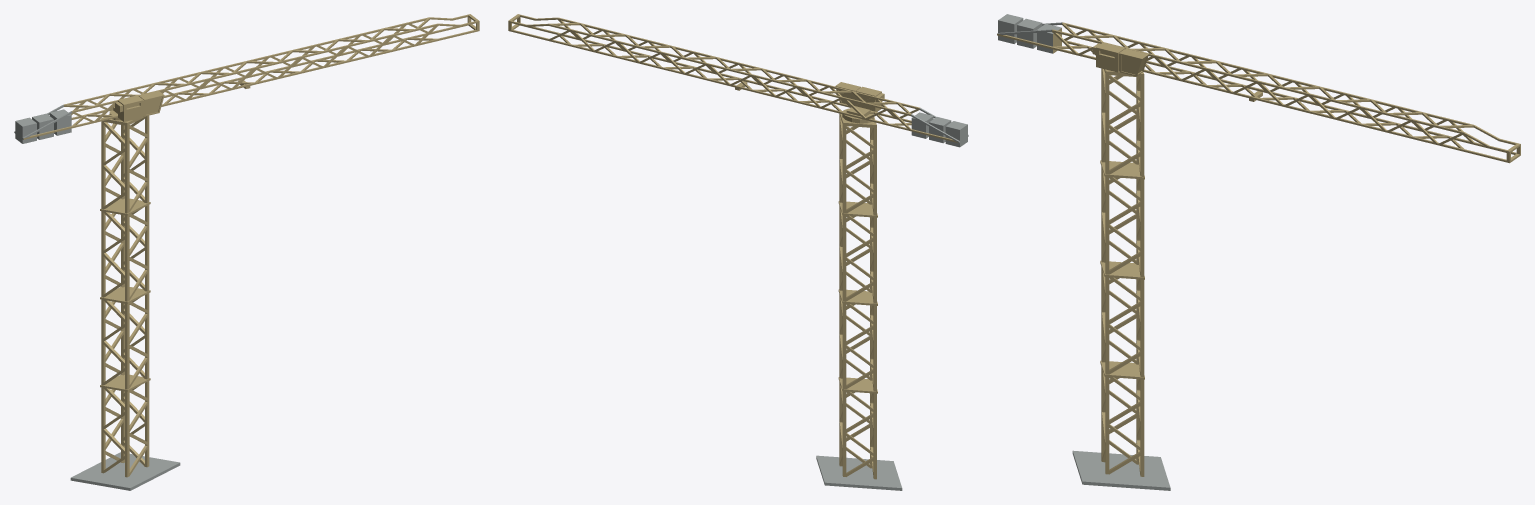
The model's file is crane.glb.
3 renders of one model, left to right at view 1: azimuth 30°, elevation 25°; view 2: azimuth 150°, elevation 25°; view 3: azimuth 330°, elevation 25°, orthographic. The views are drawn at different scales.
Parts seen in each view (by area): view 1: Majadroid tower crane — adapted CC0; view 2: Majadroid tower crane — adapted CC0; view 3: Majadroid tower crane — adapted CC0.
Part boxes in pixels (x1=…): Majadroid tower crane — adapted CC0: x1=14, y1=14, x2=479, y2=490; Majadroid tower crane — adapted CC0: x1=508, y1=14, x2=968, y2=490; Majadroid tower crane — adapted CC0: x1=997, y1=14, x2=1520, y2=490.
Size of the model in its own units: 53.2 by 42.41 by 7.99.
